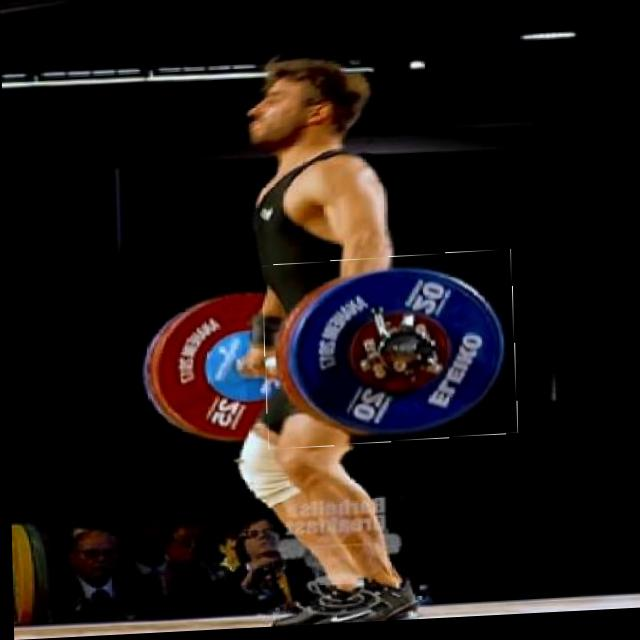barbell: (262, 256, 516, 453)
